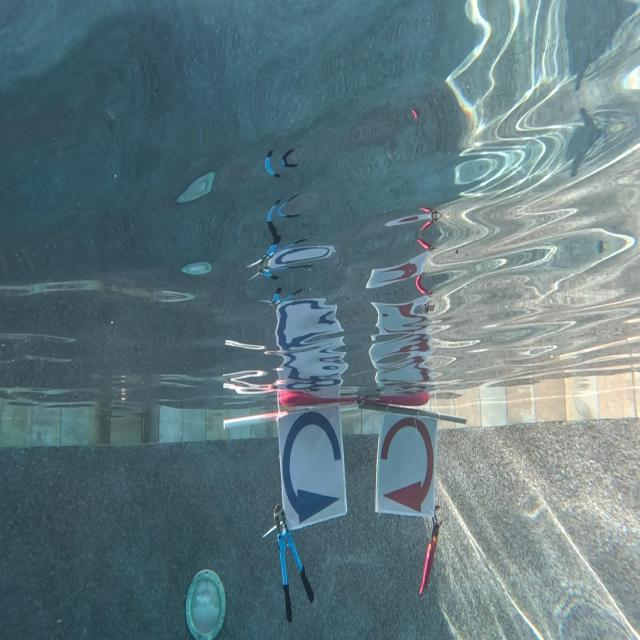blue_side: (274, 403, 349, 530)
red_side: (374, 410, 435, 520)
